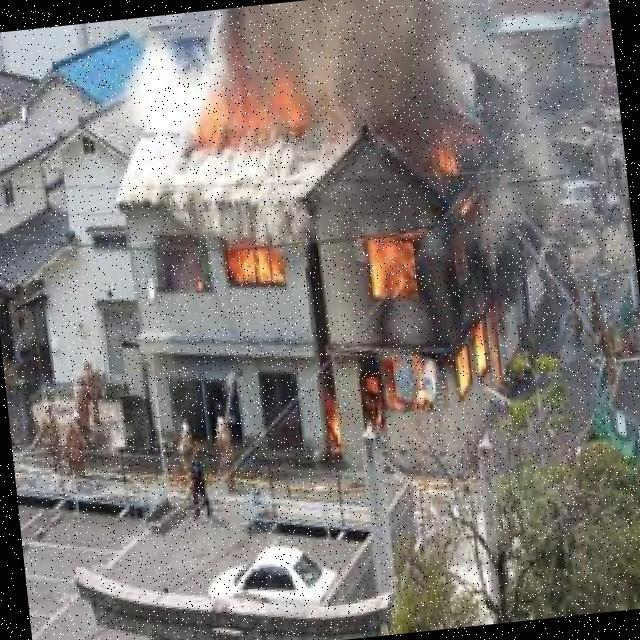Fire: (329, 131, 529, 444), (183, 25, 317, 156), (213, 235, 293, 299)
